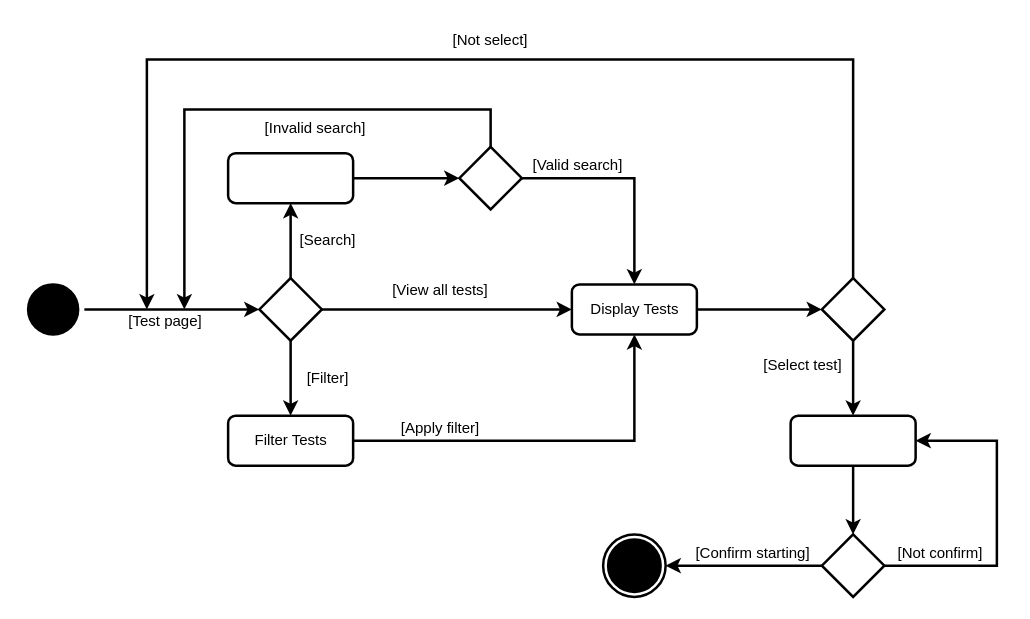
The diagram is 1030 pixels wide and 619 high, and some of its shapes have lost their labels. The centre of each missing label's shape, as x and y in pixels:
Search Tests: (x=290, y=177)
View Test: (x=852, y=440)
